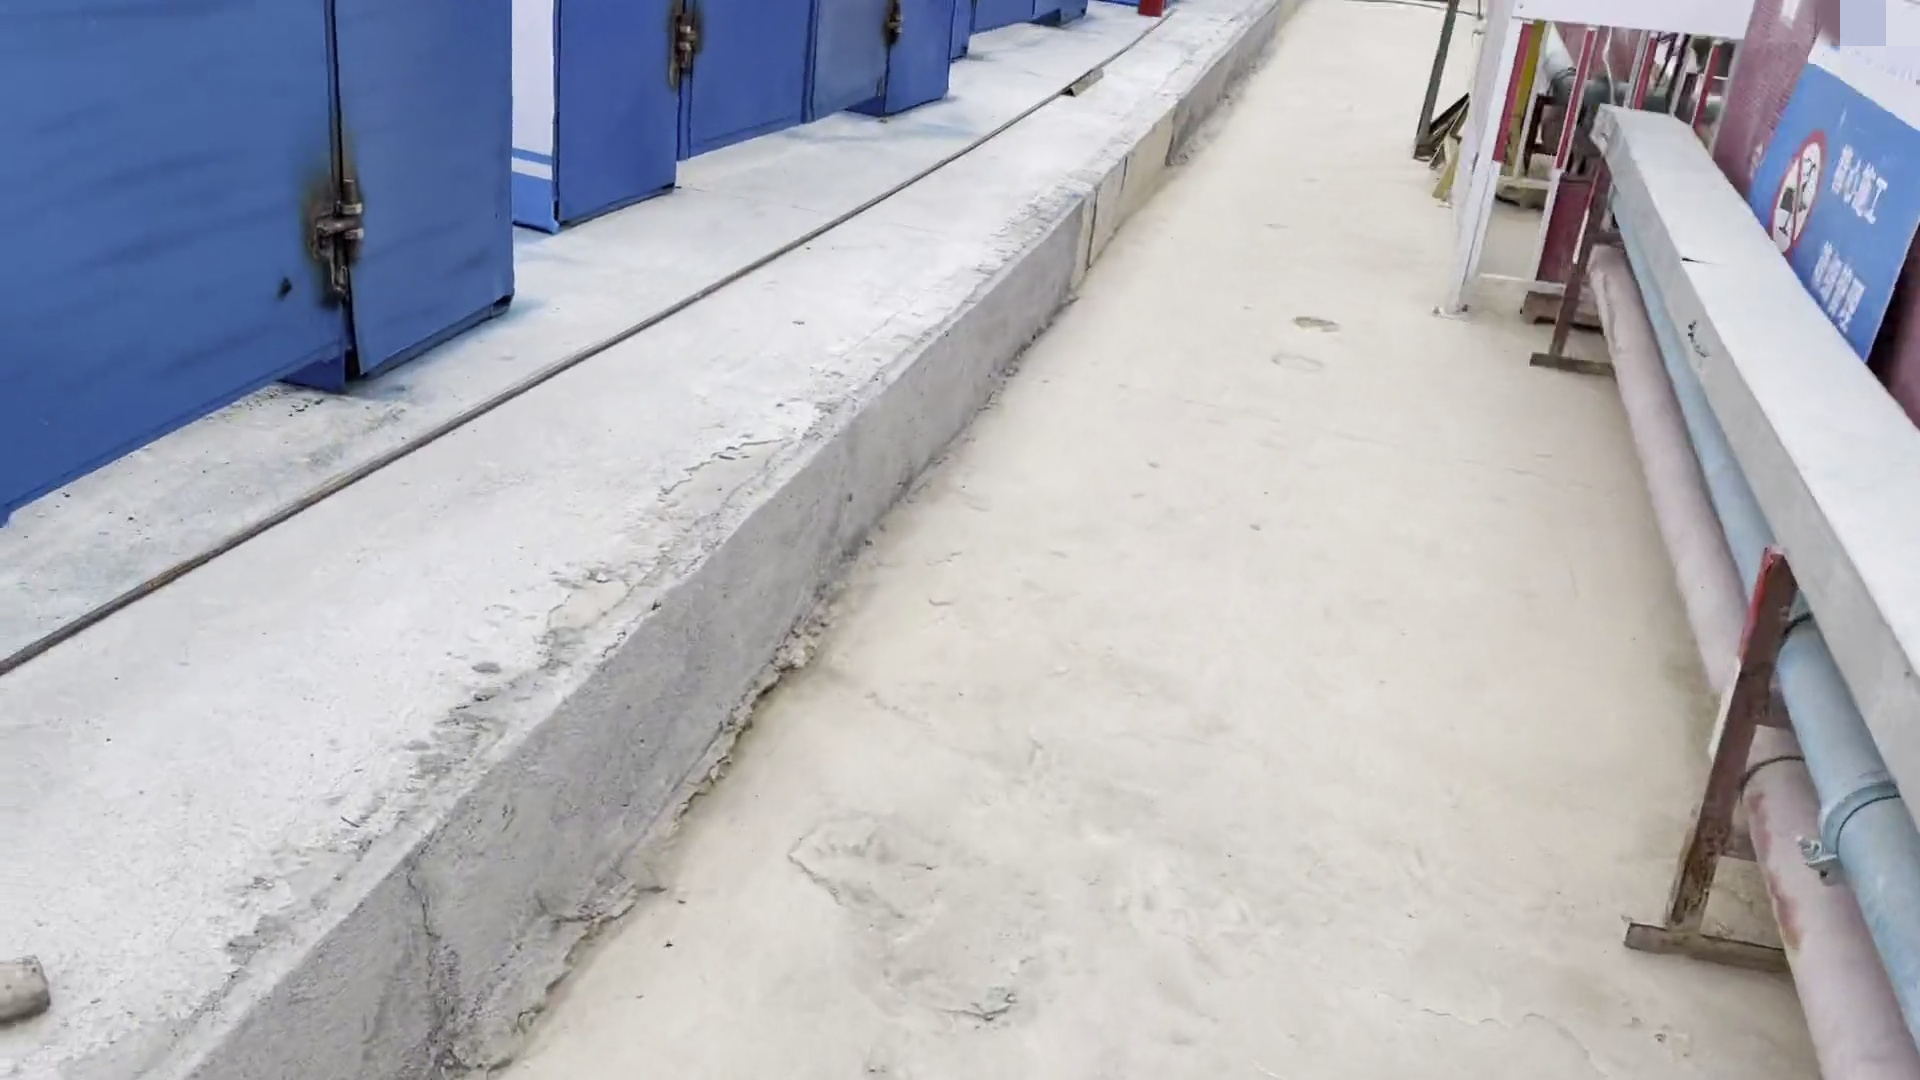ebox: (1462, 11, 1538, 160)
fence: (1717, 1, 1920, 433)
slogan: (1735, 5, 1917, 396)
